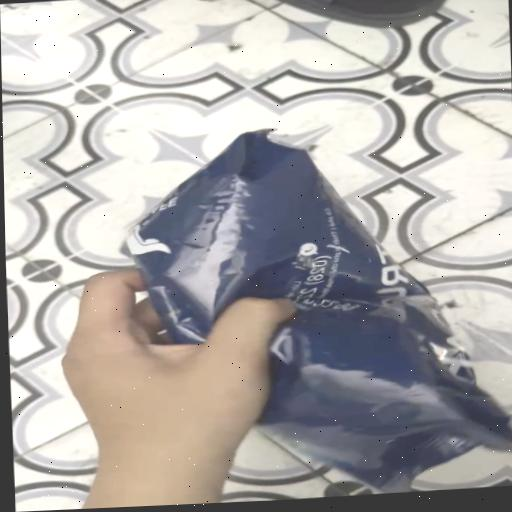cafe_hat: (128, 130, 512, 493)
